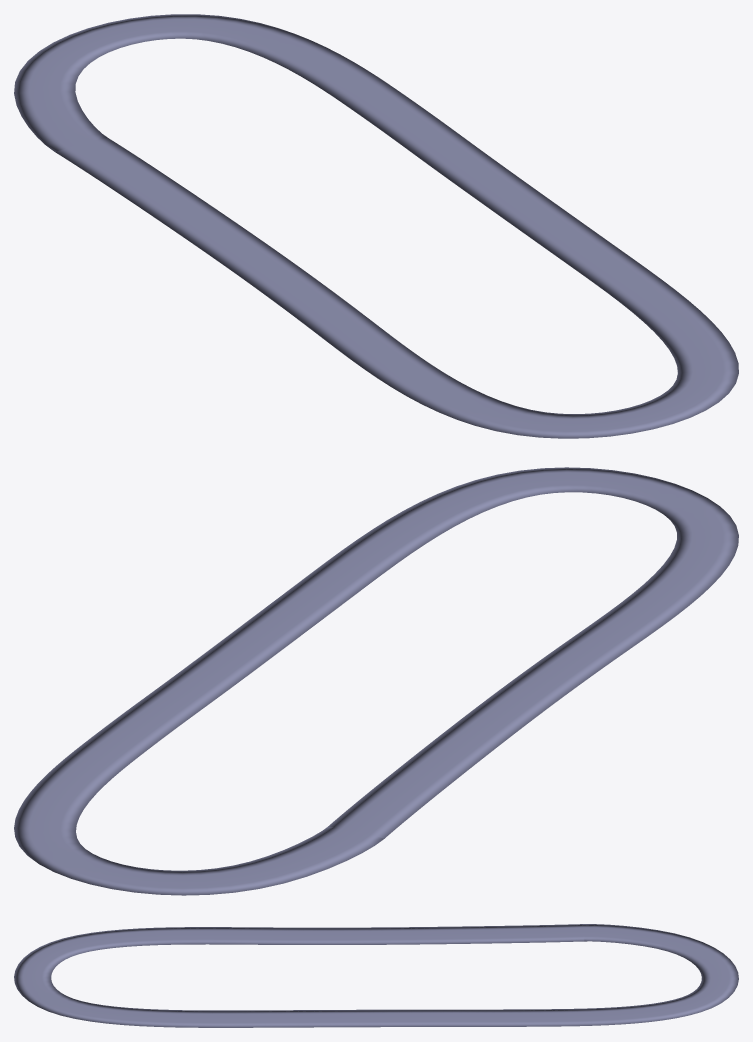
File: track.fbx
The picture shows the model from 3 angles, top to bottom: view 1: azimuth 30°, elevation 25°; view 2: azimuth 150°, elevation 25°; view 3: azimuth 270°, elevation 25°; orthographic projection. The views are drawn at different scales.
Parts seen in each view (by area): view 1: defaultBrush2Main; view 2: defaultBrush2Main; view 3: defaultBrush2Main.
Boxes of the visible parts, x1=… form: defaultBrush2Main: x1=14, y1=14, x2=738, y2=438; defaultBrush2Main: x1=14, y1=467, x2=738, y2=895; defaultBrush2Main: x1=14, y1=924, x2=738, y2=1027.
Bounding box in the file's own units: 7.92 × 0.0471 × 23.36.
